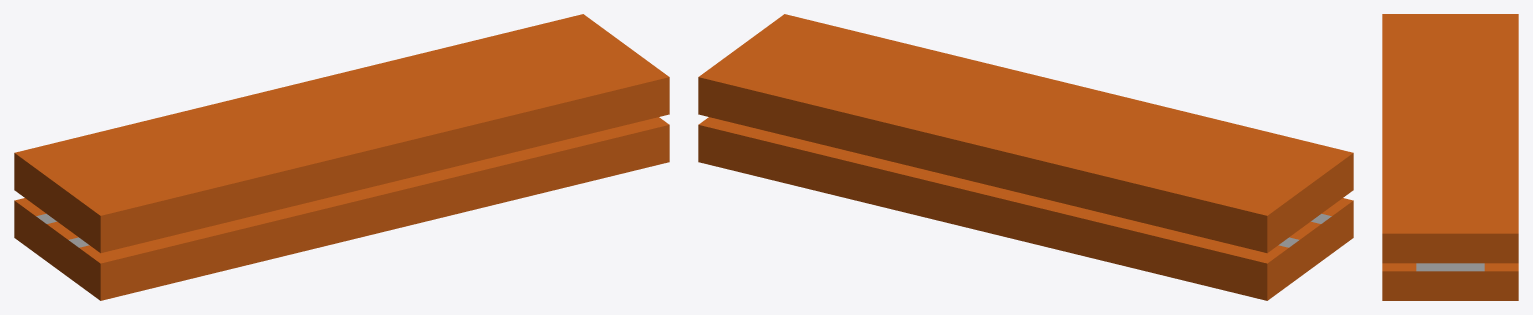
The model's file is Aparatito que se abre.fbx.
3 renders of one model, left to right at view 1: azimuth 30°, elevation 25°; view 2: azimuth 150°, elevation 25°; view 3: azimuth 270°, elevation 25°, orthographic. The views are drawn at different scales.
Visible parts, largest first — view 1: Cube.001, Cube; view 2: Cube.001, Cube; view 3: Cube.001, Cube.
Part boxes in pixels (x1,y1,x2,y2): Cube.001: (14,14,669,253); Cube: (14,117,669,300); Cube.001: (698,14,1353,253); Cube: (698,117,1353,300); Cube.001: (1382,14,1518,263); Cube: (1382,263,1518,300).
Size of the model in its own units: 200 by 28.58 by 52.48.
